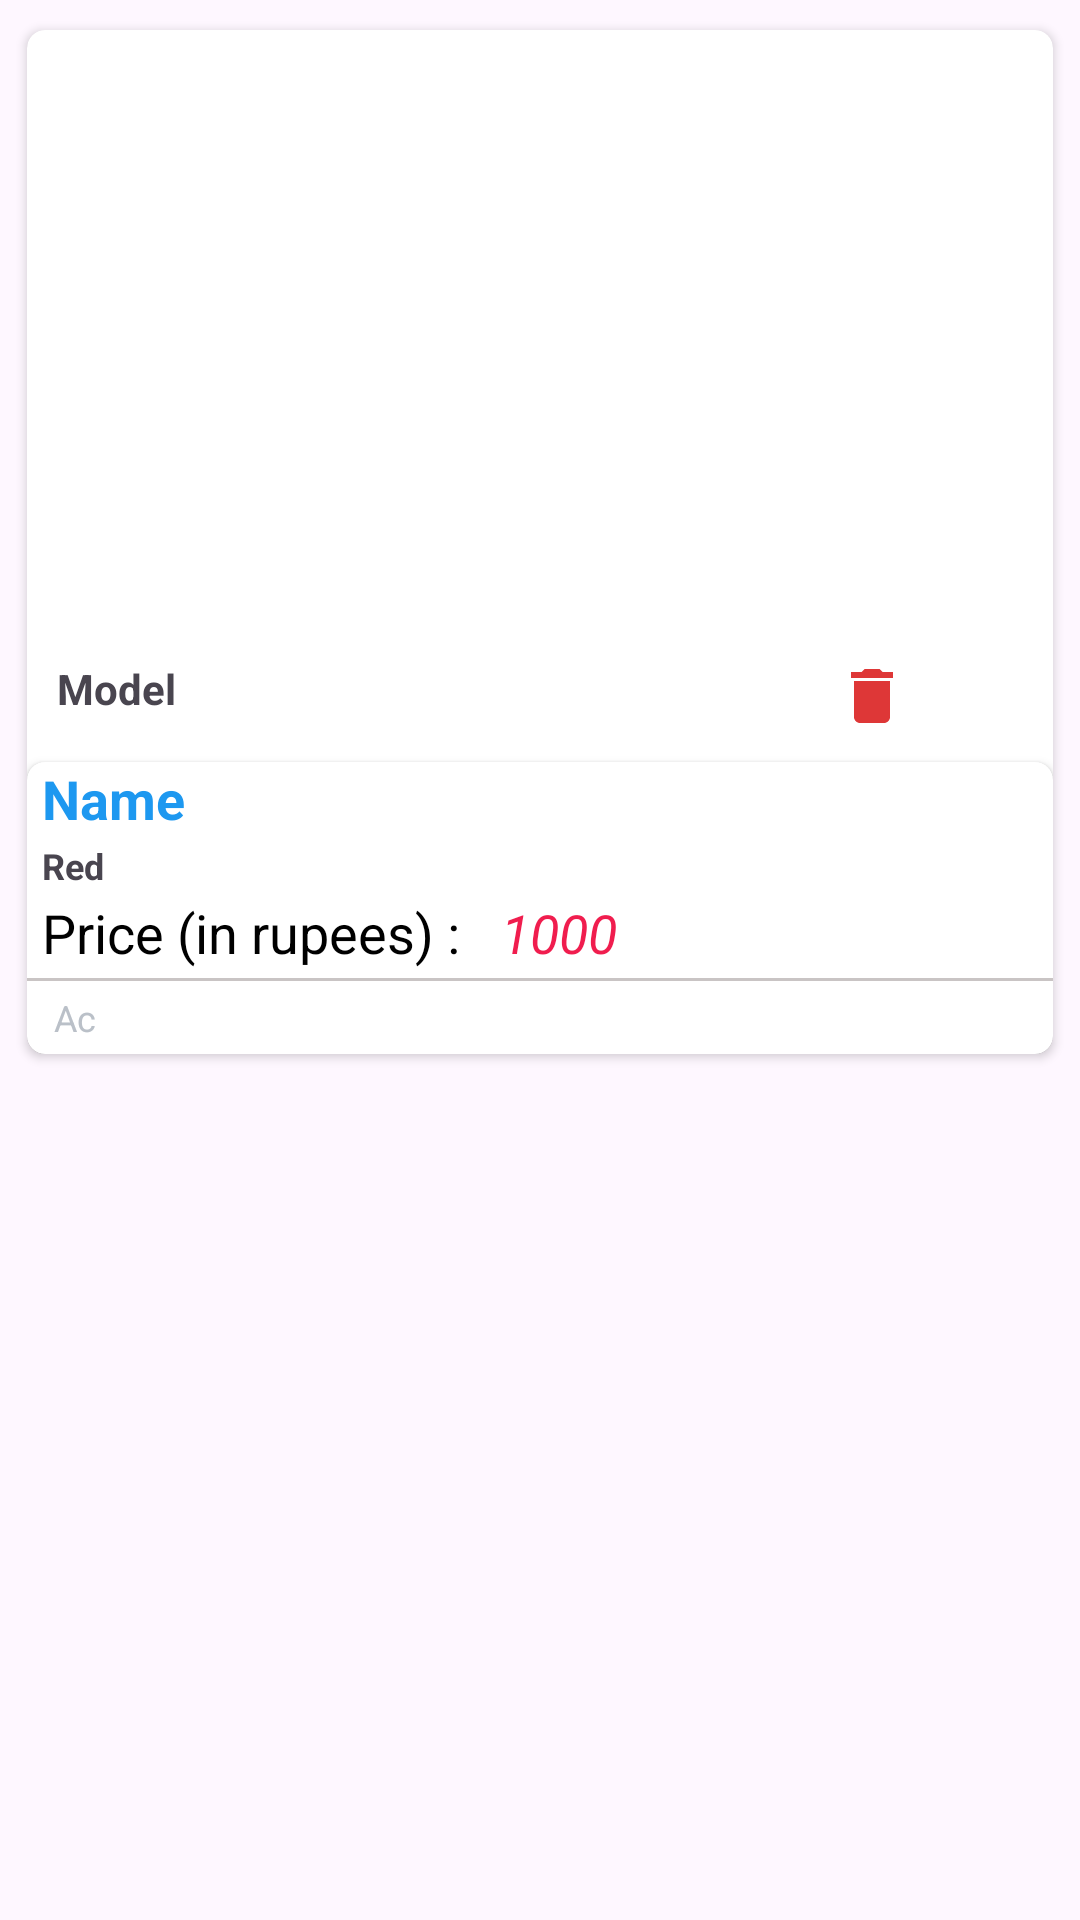

Screen size 1080x1920. Icon name, then its center in pixels as (x=x, y=y):
delete: (x=872, y=696)
